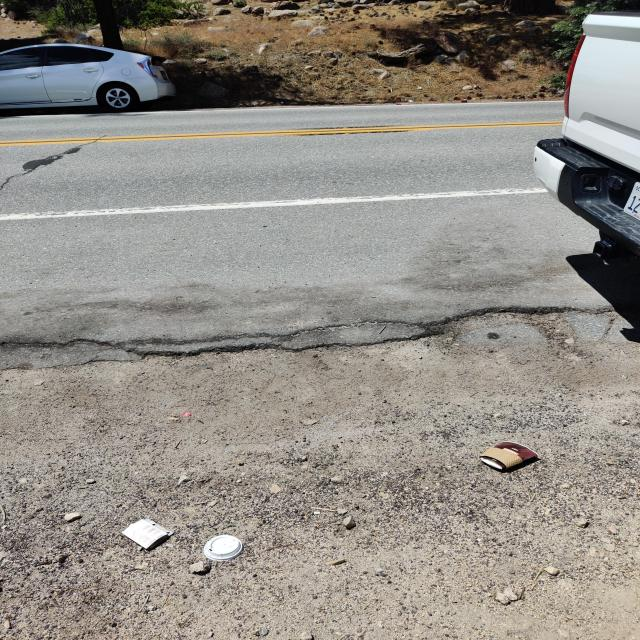litter: (477, 439, 547, 474), (118, 517, 178, 553), (201, 533, 247, 565)
